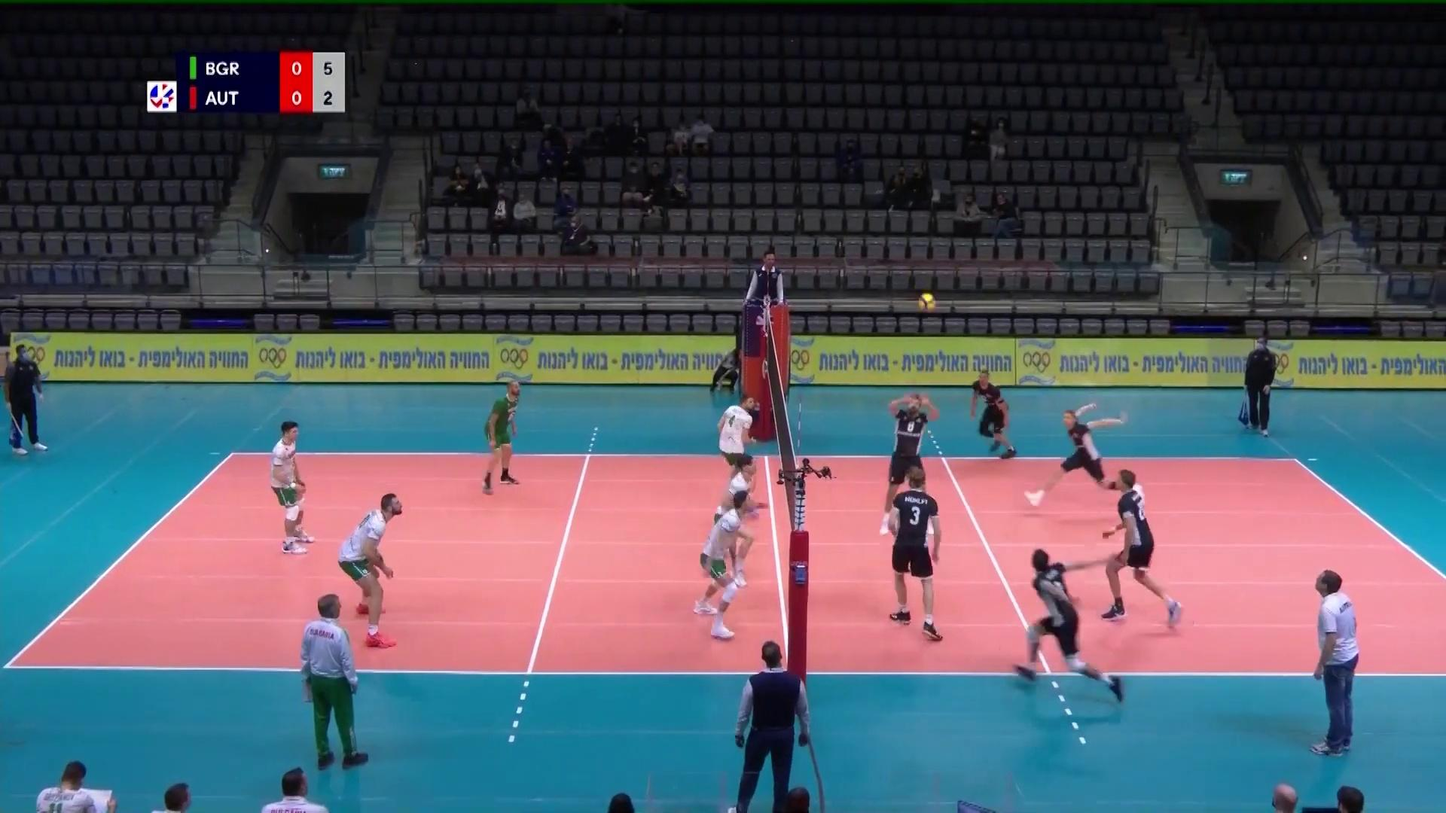ball: (917, 291, 936, 313)
